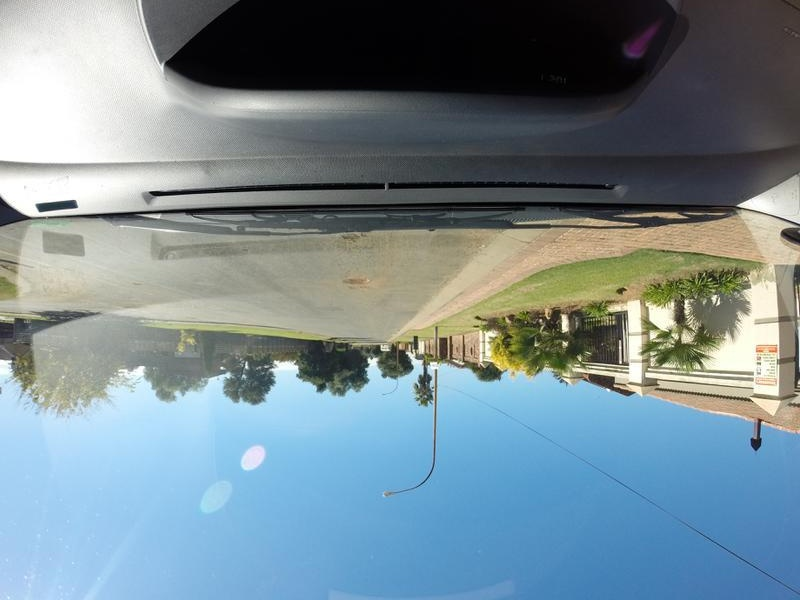pothole: (337, 277, 368, 291), (336, 236, 359, 244)
